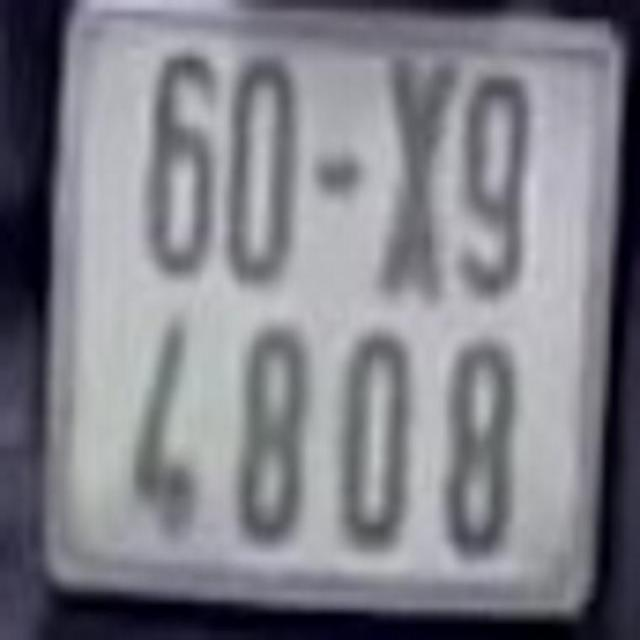0: (337, 324, 410, 556), (228, 45, 296, 290)
4: (127, 320, 200, 545)
6: (148, 50, 224, 277)
8: (440, 331, 518, 560), (237, 314, 308, 552)
9: (459, 57, 533, 305)
X: (378, 49, 457, 306)
